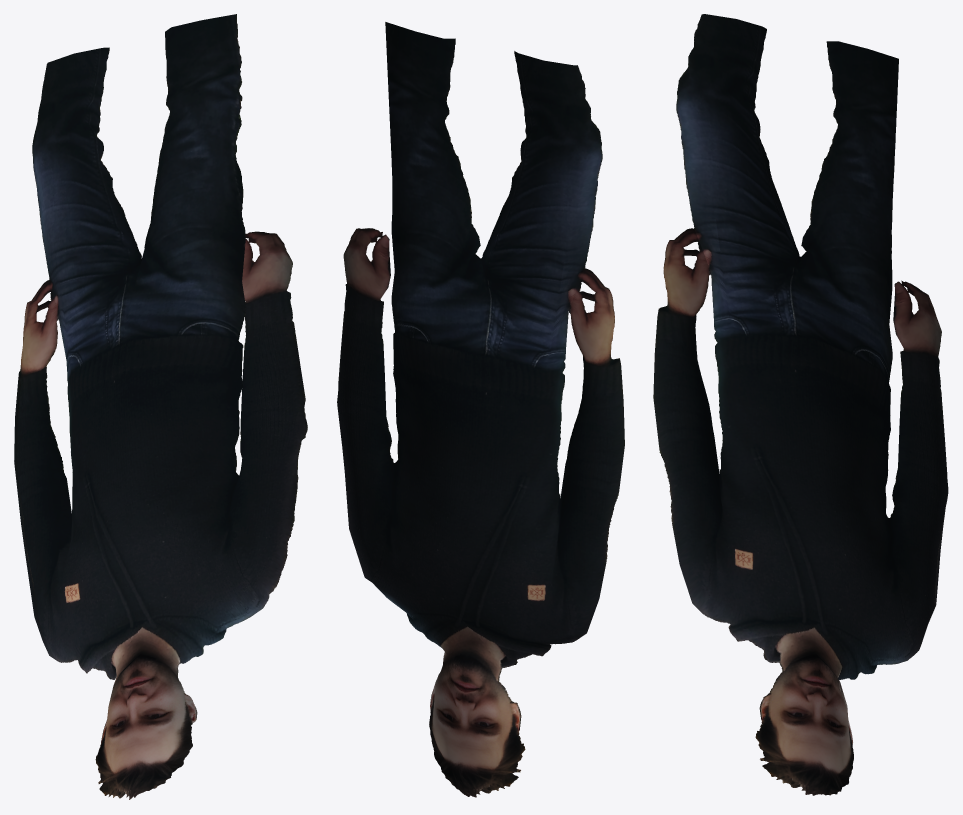
The model's file is scene-static-bent.glb.
The picture shows the model from 3 angles, left to right: view 1: azimuth 30°, elevation 25°; view 2: azimuth 150°, elevation 25°; view 3: azimuth 330°, elevation 25°; orthographic projection. The views are drawn at different scales.
Parts seen in each view (by area): view 1: me; view 2: me; view 3: me.
Boxes of the visible parts, x1,y1,x2,y2 form: me: (14, 14, 307, 799); me: (337, 22, 624, 797); me: (653, 14, 948, 795).
Bounding box in the file's own units: 3.45 × 8.66 × 0.5552.
Materials: 1 (1 with a texture image).
